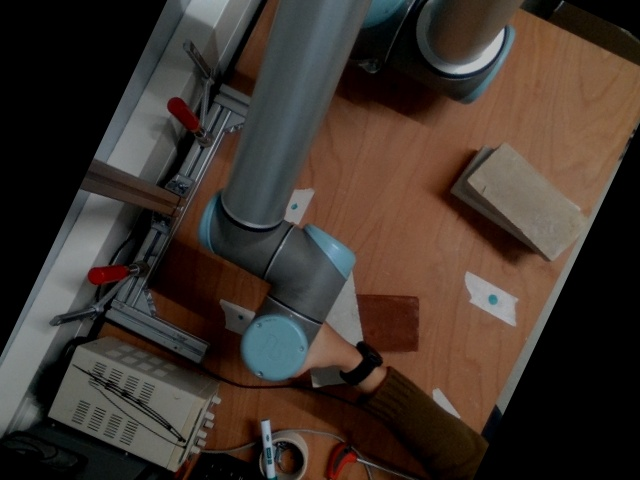brick: (468, 144, 589, 259)
